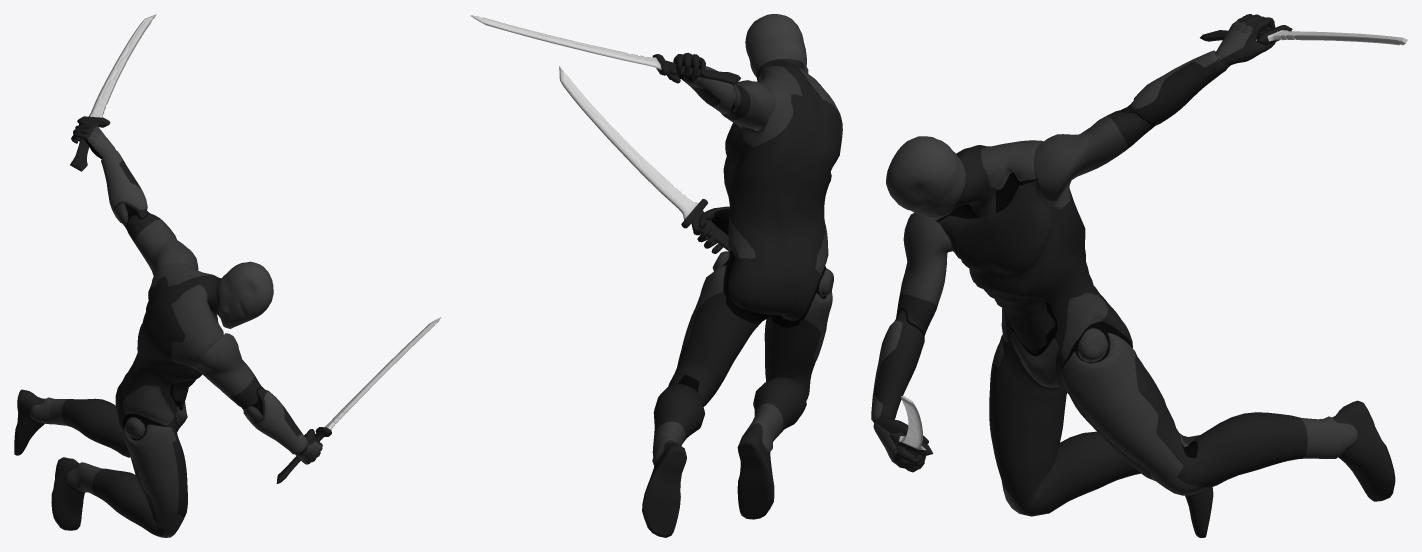
The picture shows the model from 3 angles, left to right: view 1: azimuth 30°, elevation 25°; view 2: azimuth 150°, elevation 25°; view 3: azimuth 270°, elevation 25°; orthographic projection. The views are drawn at different scales.
Visible parts, largest first — view 1: Cyborg_Ninja_Killer, Sword_l, Sword_l001; view 2: Cyborg_Ninja_Killer, Sword_l001, Sword_l; view 3: Cyborg_Ninja_Killer, Sword_l, Sword_l001.
Part boxes in pixels (<box>): Cyborg_Ninja_Killer: <box>14,120,322,537</box>; Sword_l: <box>70,14,156,171</box>; Sword_l001: <box>276,317,441,483</box>; Cyborg_Ninja_Killer: <box>642,14,842,537</box>; Sword_l001: <box>559,66,728,250</box>; Sword_l: <box>470,15,740,84</box>; Cyborg_Ninja_Killer: <box>871,14,1395,537</box>; Sword_l: <box>1200,25,1407,45</box>; Sword_l001: <box>889,396,933,456</box>.
Size of the model in its own units: 122 by 177 by 143.
2 materials, 2 textured.
